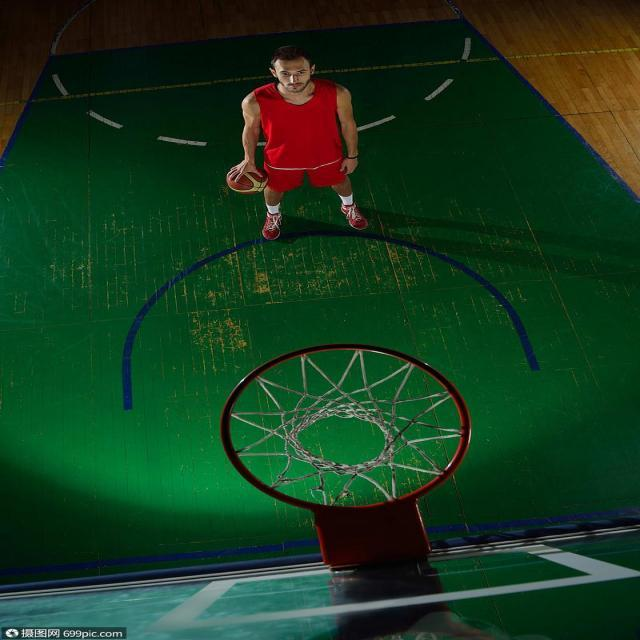rim: (228, 169, 274, 194)
